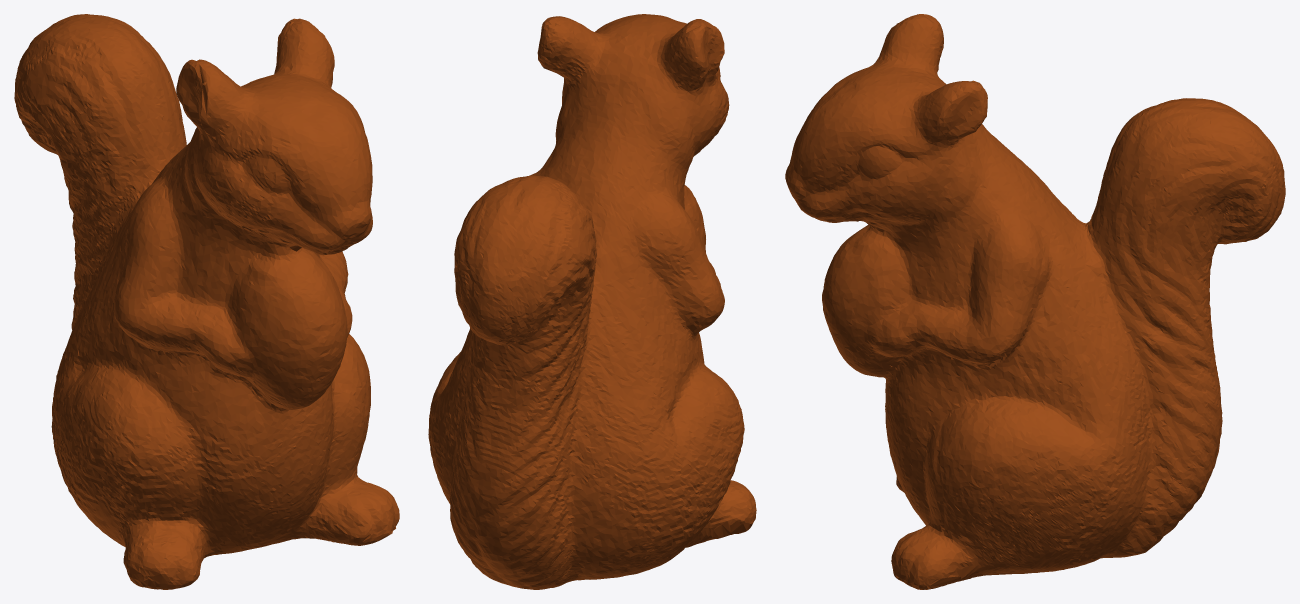
The model's file is squirrel.gltf.
3 views of the same model, side by side, from view 1: azimuth 30°, elevation 25°; view 2: azimuth 150°, elevation 25°; view 3: azimuth 270°, elevation 25° (orthographic). The views are drawn at different scales.
Visible parts, largest first — view 1: squirrel; view 2: squirrel; view 3: squirrel.
Part boxes in pixels (left/top/right/bottom): squirrel: left=14, top=14, right=399, bottom=589; squirrel: left=428, top=14, right=756, bottom=589; squirrel: left=785, top=14, right=1285, bottom=589.
Size of the model in its own units: 3.29 by 5.81 by 5.35.
